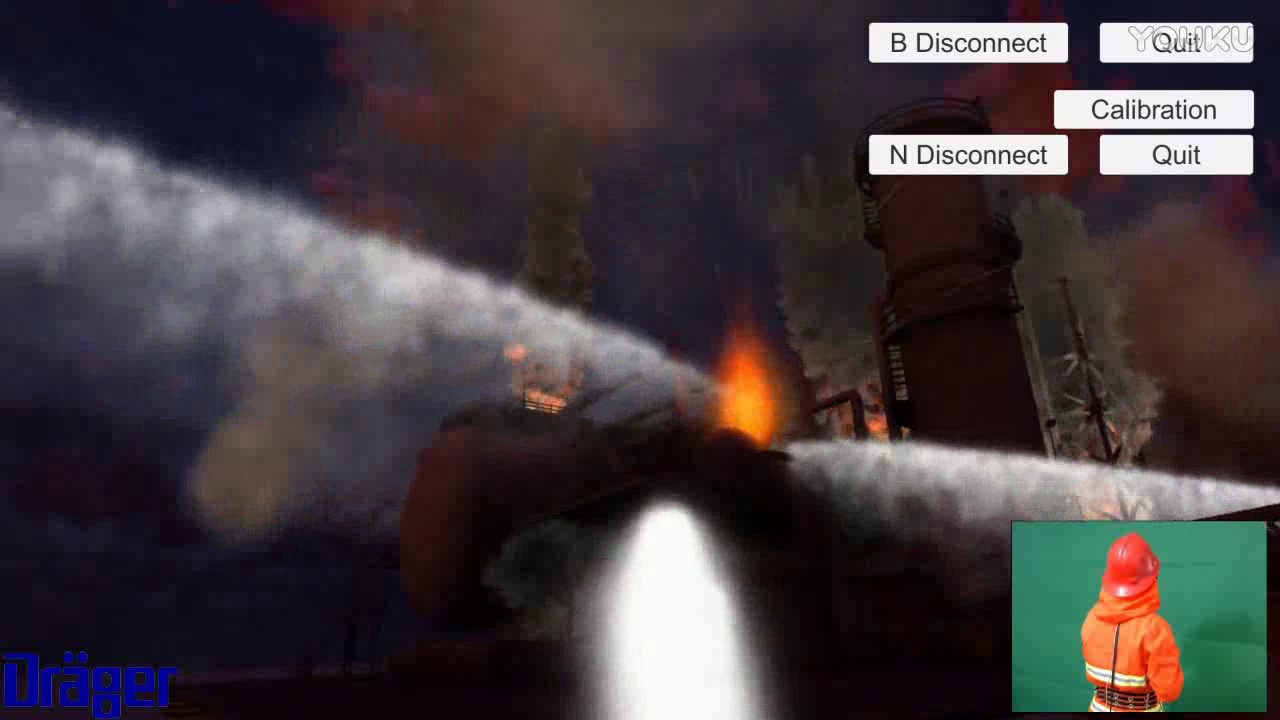fire: (708, 310, 788, 460)
